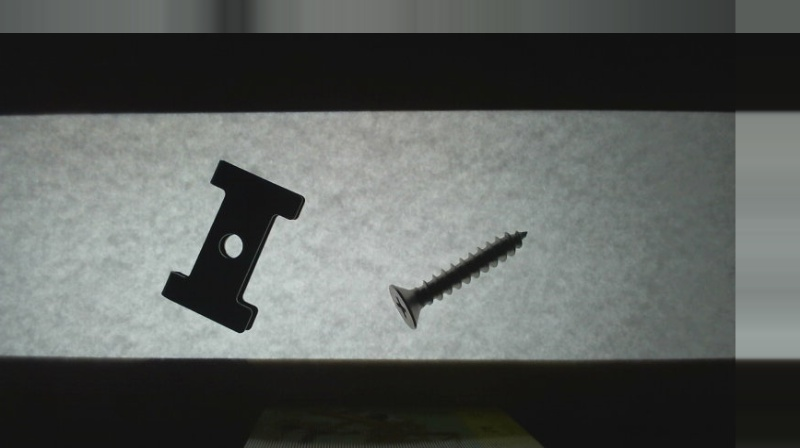O002: (157, 155, 307, 334)
S001: (385, 223, 532, 332)
